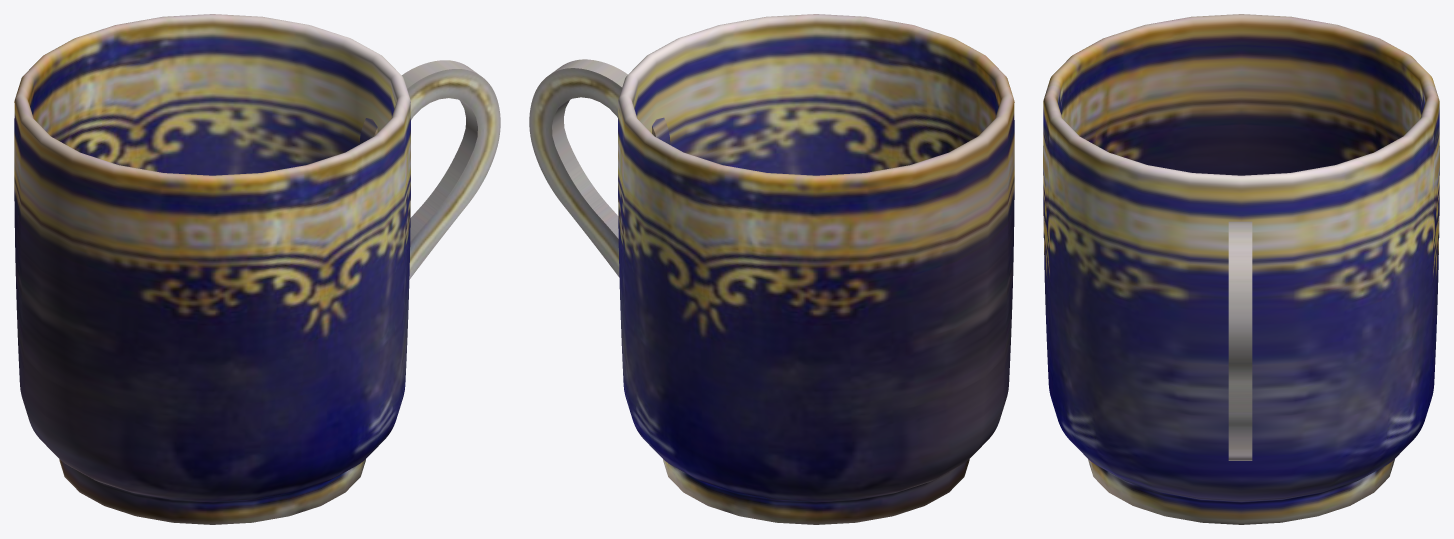
File: Cup.obj
3 renders of one model, left to right at view 1: azimuth 30°, elevation 25°; view 2: azimuth 150°, elevation 25°; view 3: azimuth 270°, elevation 25°, orthographic.
Visible parts, largest first — view 1: Mesh2 Group1 Model, Mesh1 Group2 Group1 Model; view 2: Mesh2 Group1 Model, Mesh1 Group2 Group1 Model; view 3: Mesh2 Group1 Model, Mesh1 Group2 Group1 Model.
Boxes of the visible parts, x1,y1,x2,y2 form: Mesh2 Group1 Model: (14, 14, 410, 524); Mesh1 Group2 Group1 Model: (359, 60, 500, 279); Mesh2 Group1 Model: (618, 14, 1014, 524); Mesh1 Group2 Group1 Model: (529, 59, 670, 277); Mesh2 Group1 Model: (1043, 14, 1439, 524); Mesh1 Group2 Group1 Model: (1228, 221, 1252, 460).
Size of the model in its own units: 45.99 by 35.36 by 34.85.
6 materials, 5 textured.
